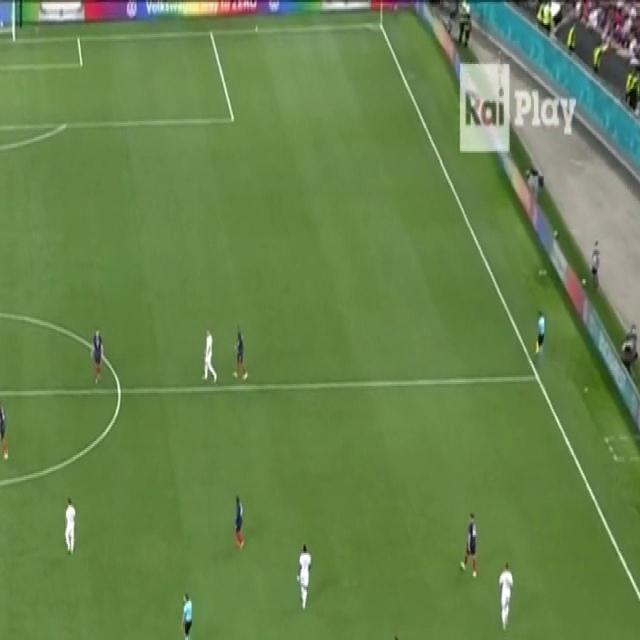ball: (580, 275, 588, 286)
player-white: (459, 510, 479, 578), (295, 542, 313, 612), (498, 557, 514, 631), (232, 323, 248, 385), (90, 324, 105, 385), (202, 329, 218, 386), (179, 588, 194, 640), (64, 498, 76, 558), (233, 496, 245, 552), (534, 306, 546, 358), (0, 393, 9, 462), (383, 633, 403, 640)
